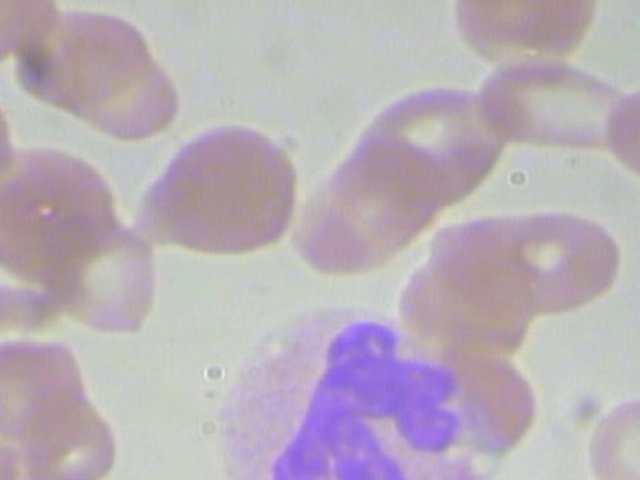RBC: (131, 121, 305, 258), (462, 52, 640, 155), (604, 76, 640, 192), (530, 479, 640, 480)
WBC: (201, 297, 523, 480)
